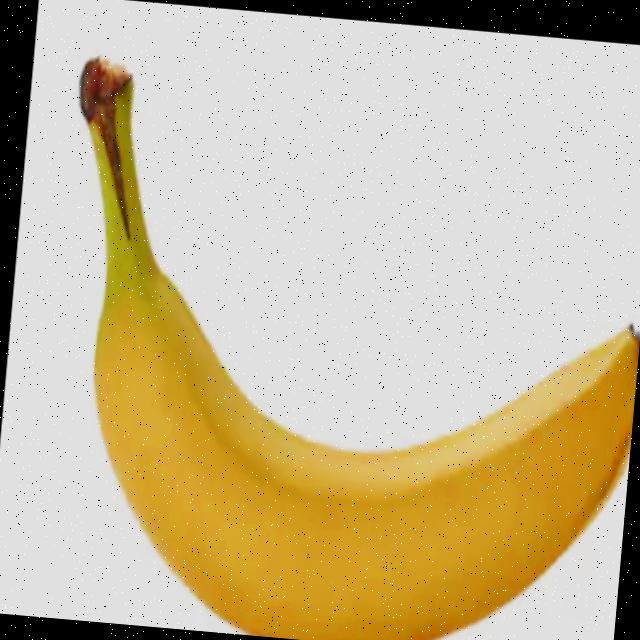Ripe: (14, 35, 640, 640)
